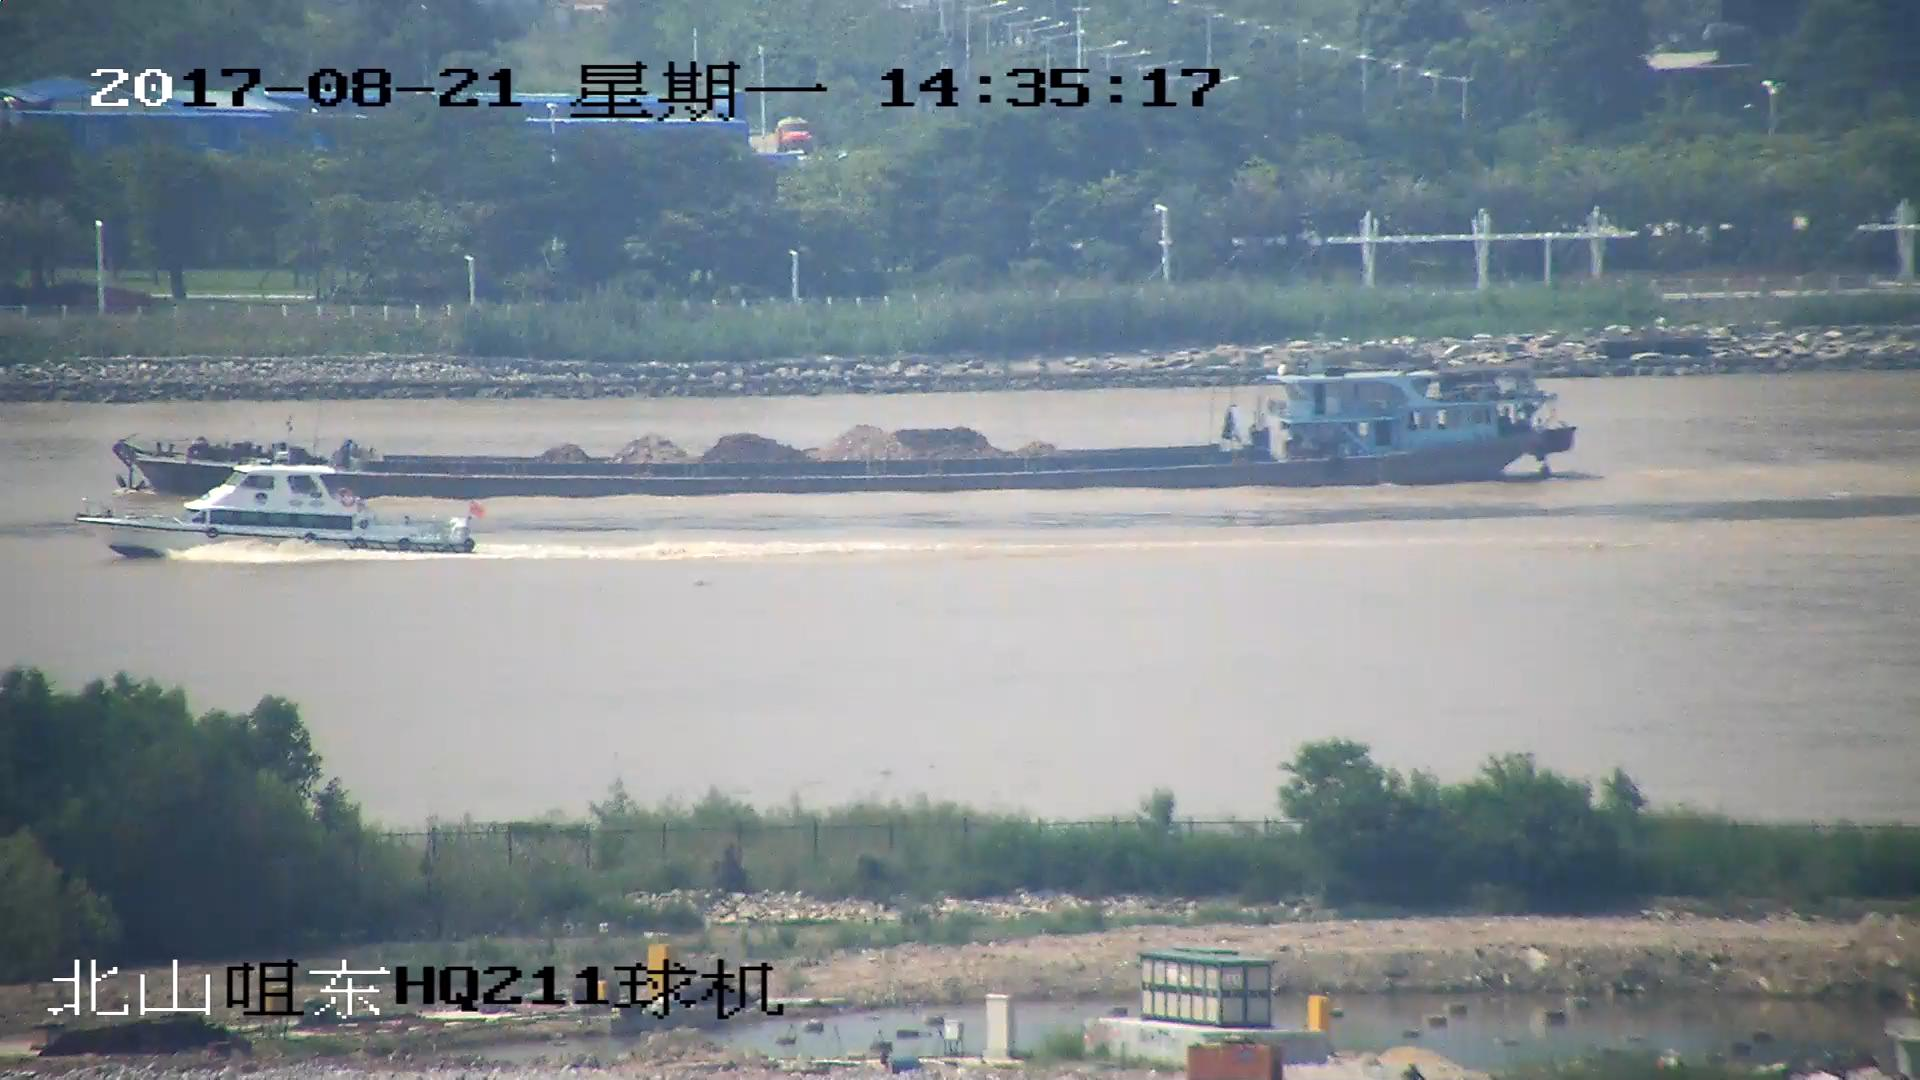ore carrier: (115, 365, 1583, 491)
passenger ship: (74, 452, 478, 564)
